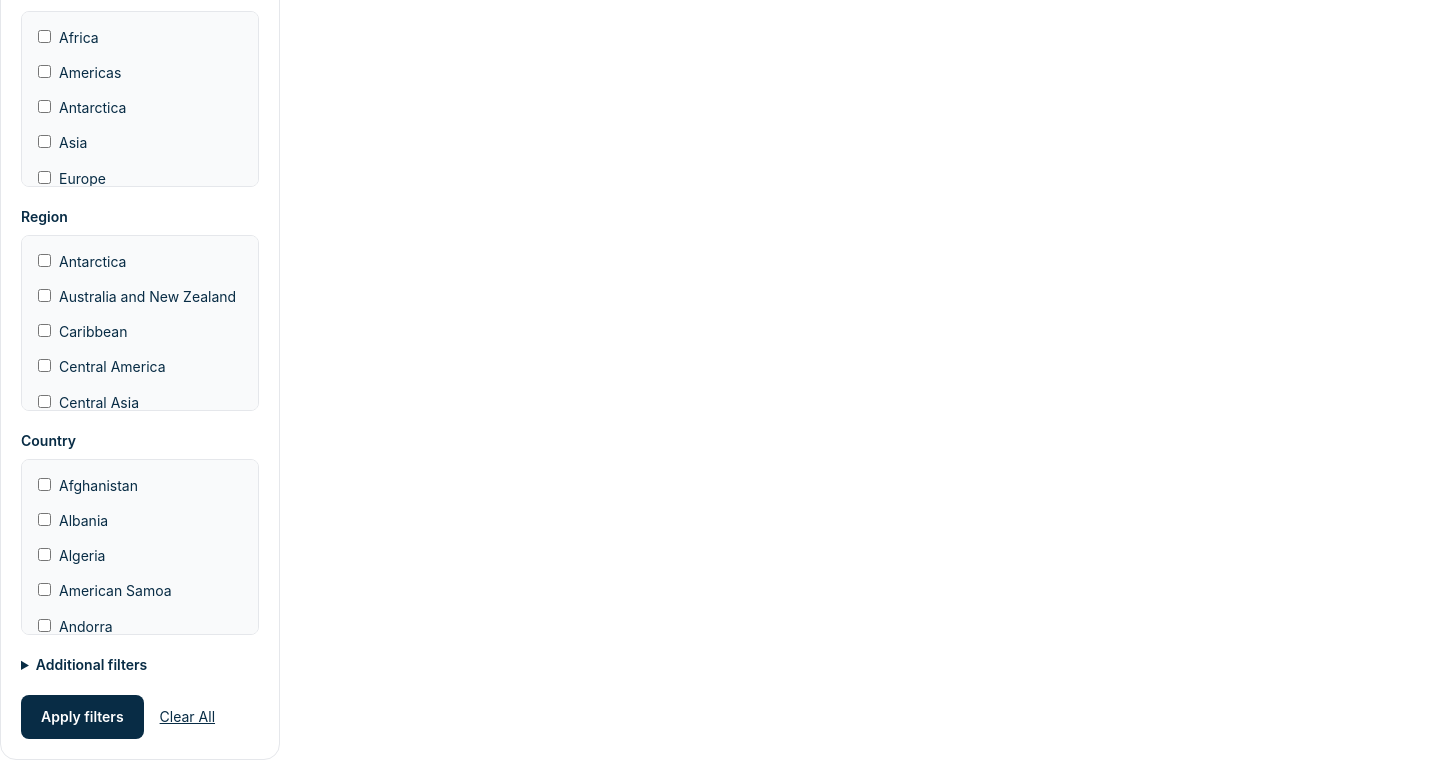
Test case: retains unsubmitted edits when a submitted search finishes
This screenshot has width=1440, height=760.
(page scrolled)
Click the heading "Additional filters": click(92, 664) [36, 656, 147, 673]
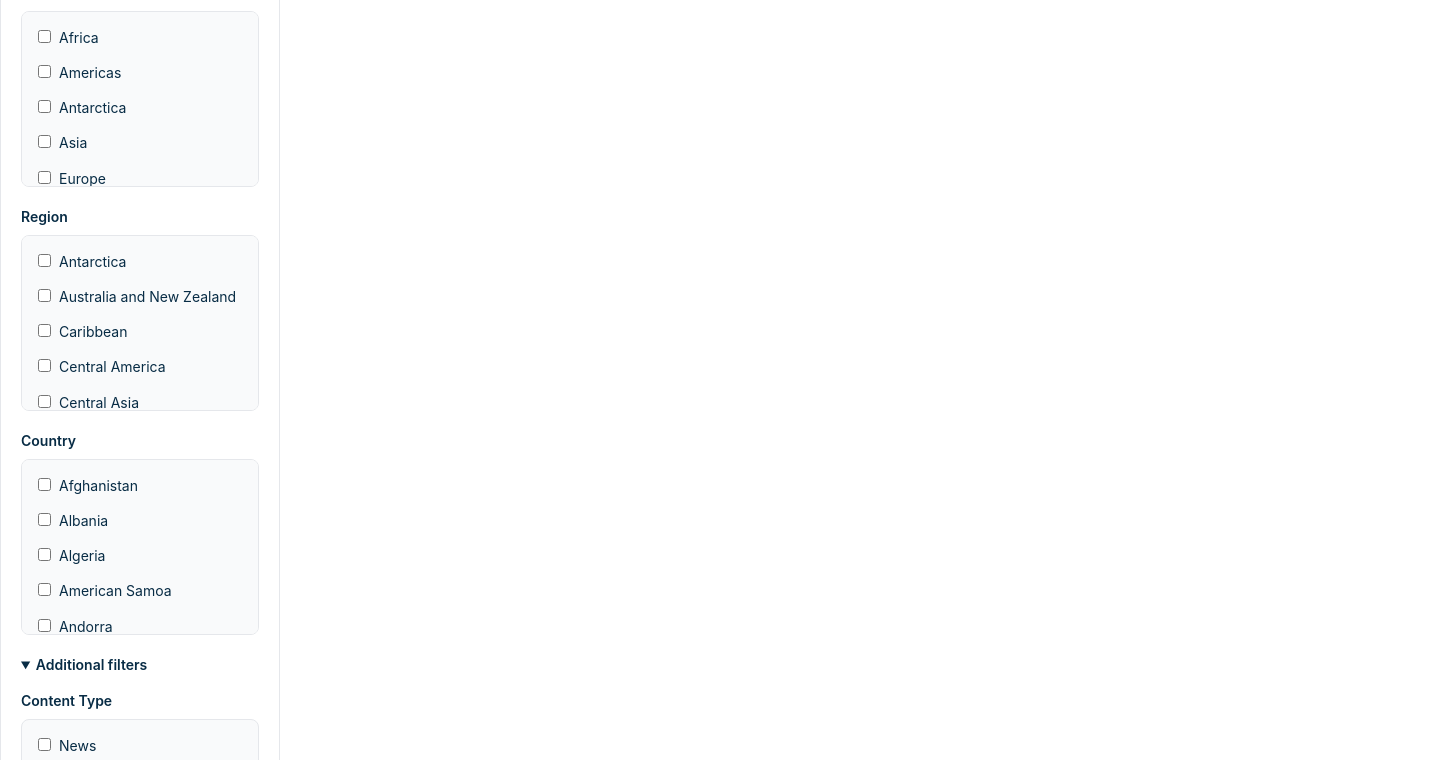
Click the checkbox labelled "News": click(44, 744) [38, 738, 51, 751]
(page scrolled)
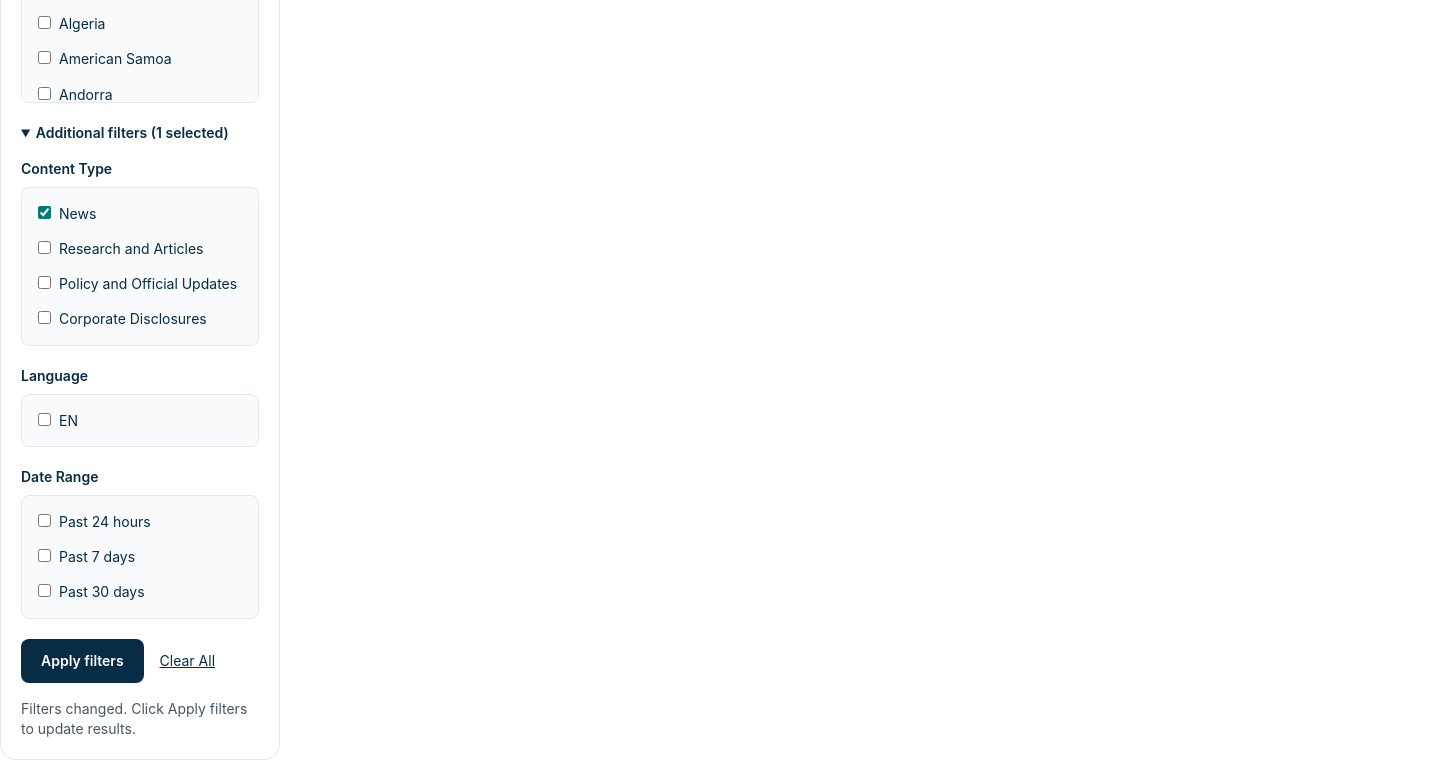
Click the button "Apply filters": click(82, 661) [21, 639, 144, 683]
(page scrolled)
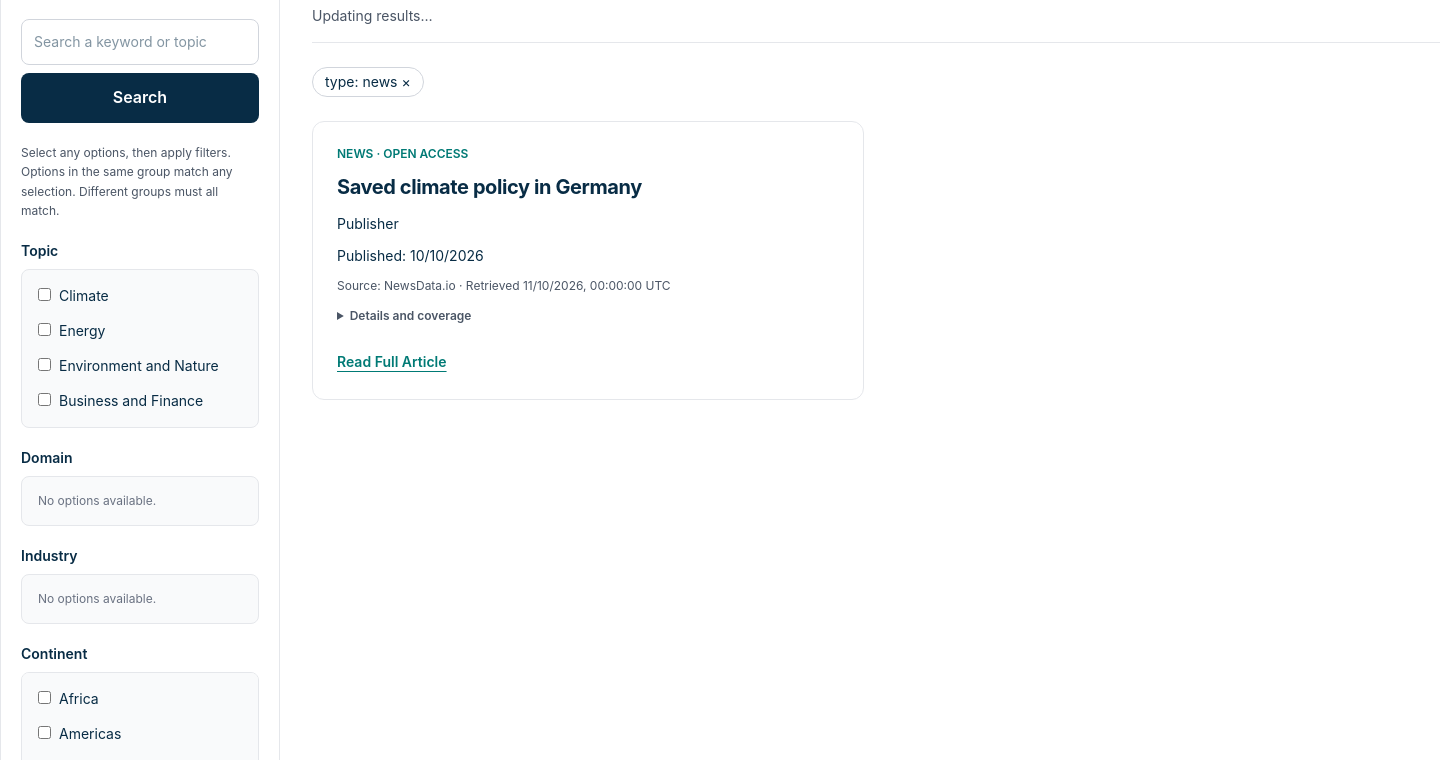
In the search field: (140, 42) [21, 19, 259, 65], type "unmatched keyword"
(page scrolled)
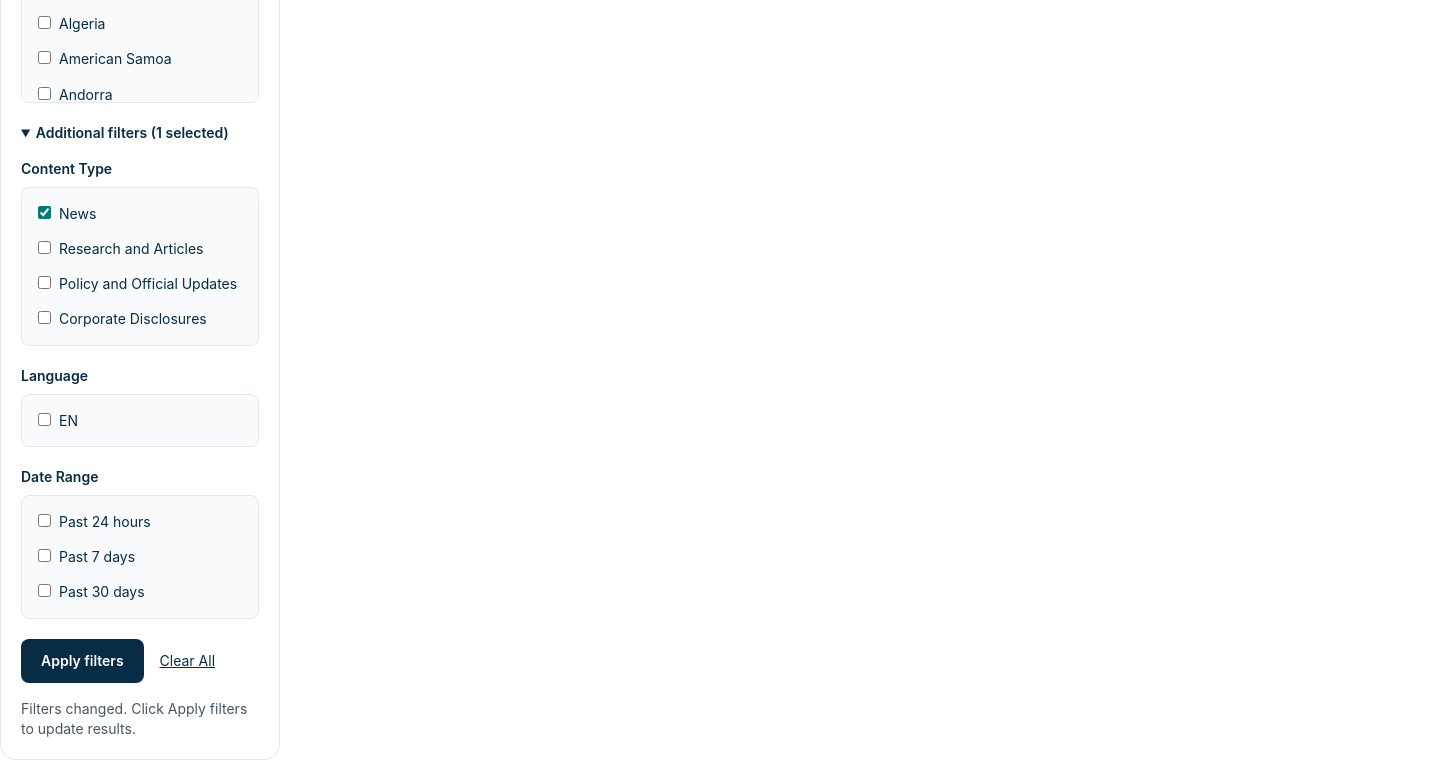
Expected: the text "Filters changed. Click Apply filters to update results." is shown, [21, 699, 259, 739]
